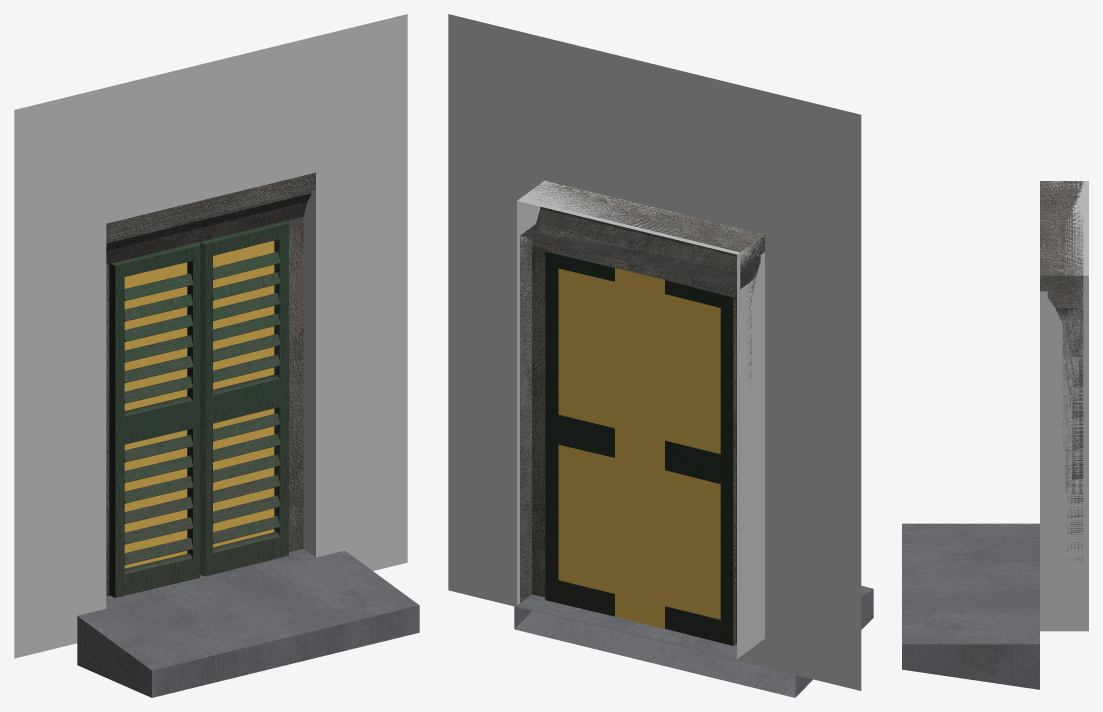
Rendered from SM_Balcony_Closed.fbx.
The picture shows the model from 3 angles, left to right: view 1: azimuth 30°, elevation 25°; view 2: azimuth 150°, elevation 25°; view 3: azimuth 270°, elevation 25°; orthographic projection. The views are drawn at different scales.
Visible parts, largest first — view 1: SM_Balcony_Closed; view 2: SM_Balcony_Closed; view 3: SM_Balcony_Closed.
Part boxes in pixels (bbox=[...]): SM_Balcony_Closed: bbox=[14, 14, 419, 697]; SM_Balcony_Closed: bbox=[448, 14, 873, 697]; SM_Balcony_Closed: bbox=[902, 181, 1088, 689].
Size of the model in its own units: 3 by 4.16 by 1.34.
